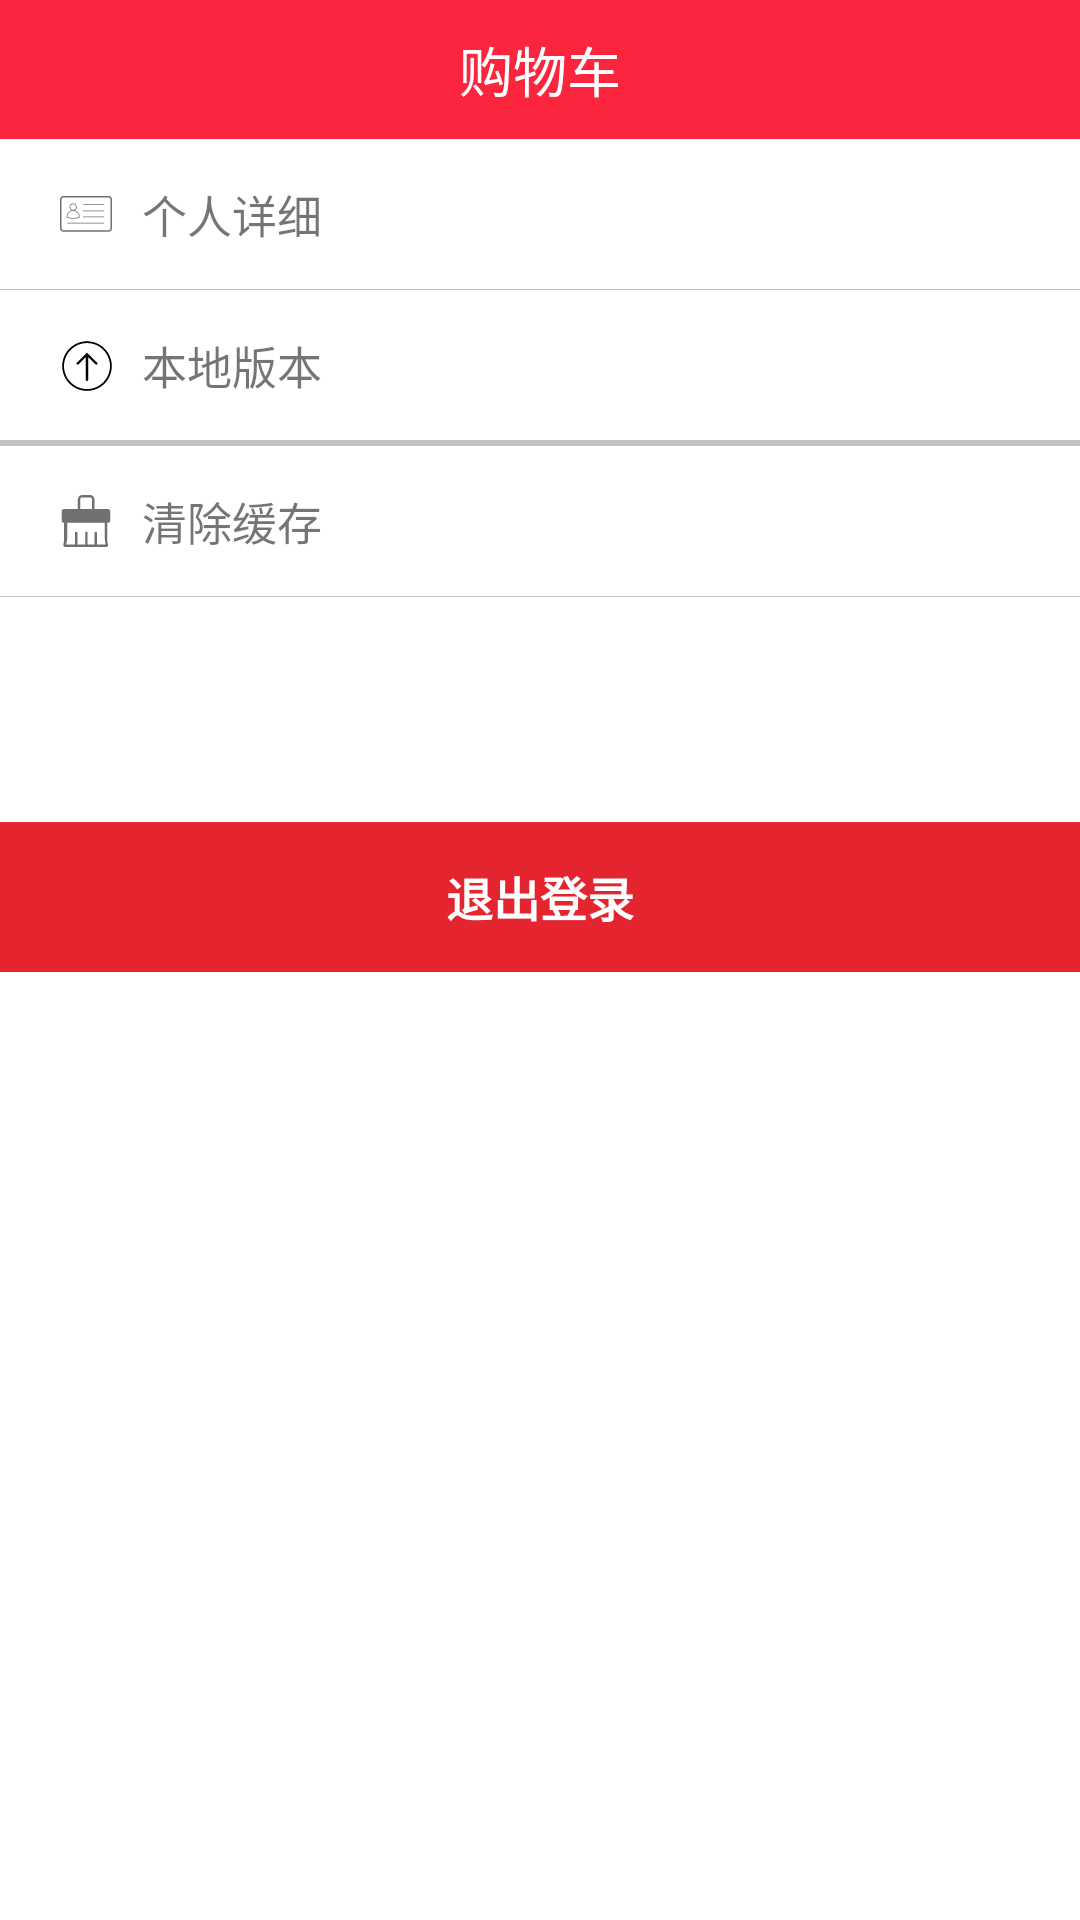

Icon bounding boxes for this 1080px x 1920px phone screenshot, format (x1, y1, x2, y2):
userx: (60, 196, 112, 232)
version: (62, 341, 112, 391)
